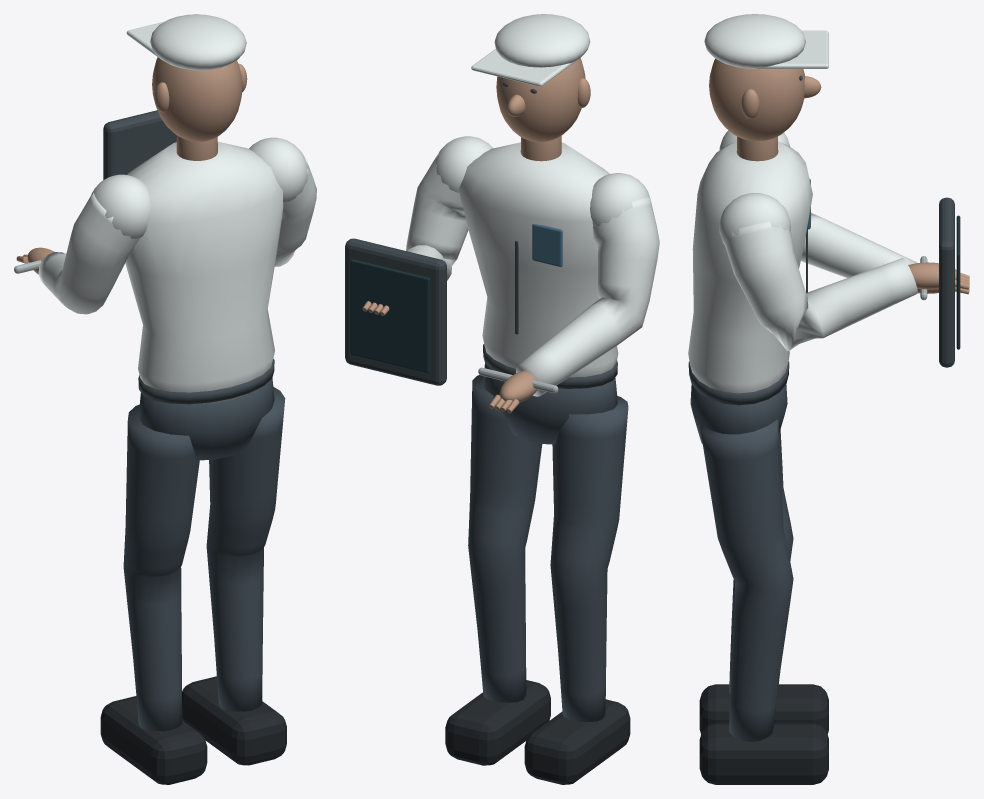
Rendered from quality-worker.glb.
3 renders of one model, left to right at view 1: azimuth 30°, elevation 25°; view 2: azimuth 150°, elevation 25°; view 3: azimuth 270°, elevation 25°, orthographic.
Visible parts, largest first — view 1: Quality | tailored torso, Quality | trouser leg, Quality | trouser leg.001, Quality | work sleeve, Quality | pelvis, Quality | safety boot, Quality | safety boot.001, Quality | head, Quality | work cap, Quality | inspection tablet, Quality | shoulder, Quality | shoulder.001 (+3 smaller); view 2: Quality | tailored torso, Quality | trouser leg, Quality | trouser leg.001, Quality | work sleeve, Quality | tablet screen, Quality | safety boot, Quality | safety boot.001, Quality | inspection tablet, Quality | head, Quality | pelvis, Quality | work sleeve.001, Quality | work cap (+7 smaller); view 3: Quality | trouser leg.001, Quality | tailored torso, Quality | work sleeve.001, Quality | safety boot.001, Quality | head, Quality | work cap, Quality | work sleeve, Quality | safety boot, Quality | pelvis, Quality | inspection tablet, Quality | shoulder.001, Quality | cap brim (+5 smaller).
Part boxes in pixels (x1,y1,x2,y2): Quality | tailored torso: (125, 141, 283, 403); Quality | trouser leg: (123, 404, 199, 731); Quality | trouser leg.001: (206, 387, 285, 711); Quality | work sleeve: (38, 193, 139, 314); Quality | pelvis: (138, 378, 274, 460); Quality | safety boot: (100, 696, 207, 784); Quality | safety boot.001: (182, 676, 286, 765); Quality | head: (152, 57, 242, 141); Quality | work cap: (150, 14, 246, 70); Quality | inspection tablet: (103, 110, 176, 179); Quality | shoulder: (91, 174, 151, 238); Quality | shoulder.001: (249, 137, 307, 203); Quality | tailored torso: (458, 142, 618, 377); Quality | trouser leg: (550, 396, 628, 721); Quality | trouser leg.001: (468, 375, 542, 702); Quality | work sleeve: (516, 197, 659, 396); Quality | tablet screen: (350, 259, 430, 373); Quality | safety boot: (524, 699, 630, 784); Quality | safety boot.001: (445, 680, 550, 765); Quality | inspection tablet: (345, 238, 446, 385); Quality | head: (496, 58, 585, 141); Quality | pelvis: (483, 363, 617, 444); Quality | work sleeve.001: (406, 152, 468, 280); Quality | work cap: (494, 14, 590, 67); Quality | trouser leg.001: (700, 419, 793, 741); Quality | tailored torso: (688, 142, 812, 393); Quality | work sleeve.001: (724, 221, 917, 350); Quality | safety boot.001: (699, 723, 828, 784); Quality | head: (709, 58, 805, 140); Quality | work cap: (704, 14, 805, 68); Quality | work sleeve: (801, 213, 917, 277); Quality | safety boot: (699, 684, 828, 734); Quality | pelvis: (690, 384, 787, 443); Quality | inspection tablet: (939, 197, 954, 367); Quality | shoulder.001: (719, 193, 791, 245); Quality | cap brim: (756, 30, 828, 68).
Size of the model in its own units: 0.5989 by 1.76 by 0.6094.
